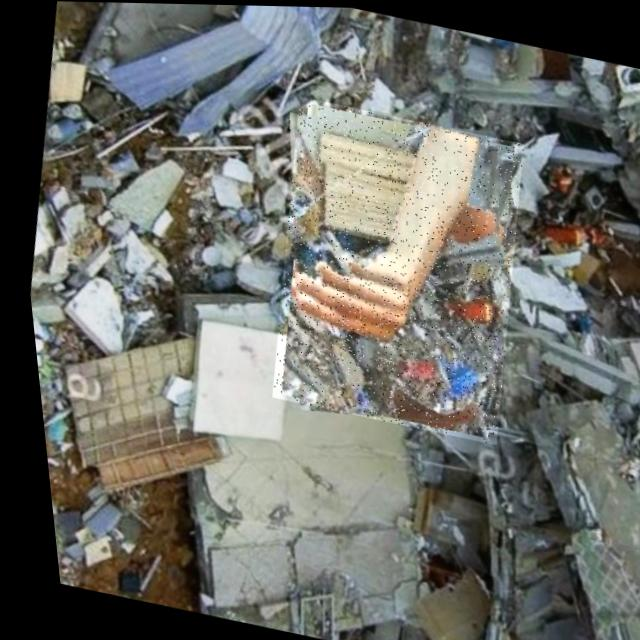Person in Rubble: (238, 94, 545, 444)
